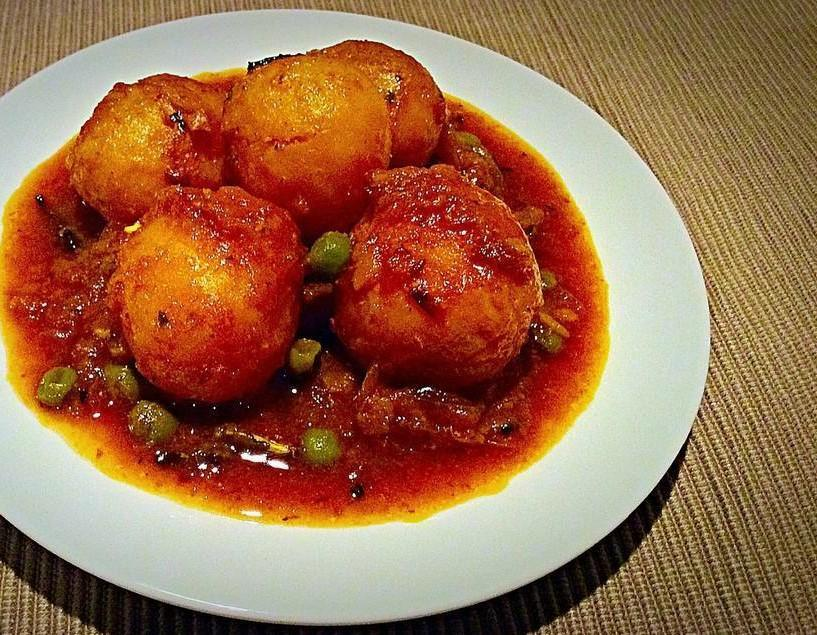DumAloo: (0, 39, 612, 530), (607, 523, 610, 526)
